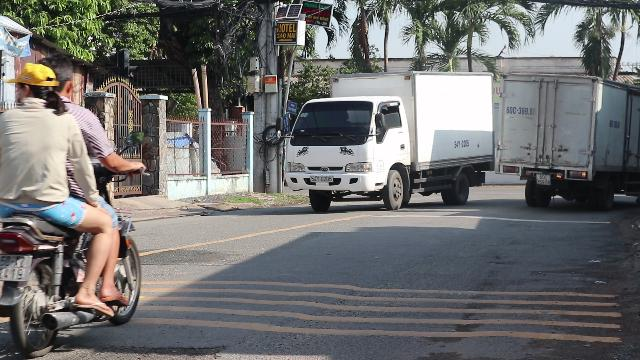helmet: (11, 62, 61, 108)
licenseplate: (1, 255, 30, 279)
motorcyclist: (1, 57, 148, 350)
nohelmet: (10, 61, 60, 107)
